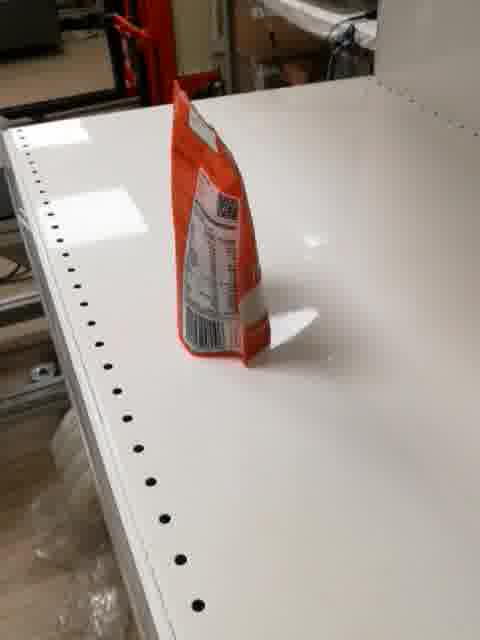whitechia: (163, 72, 275, 370)
